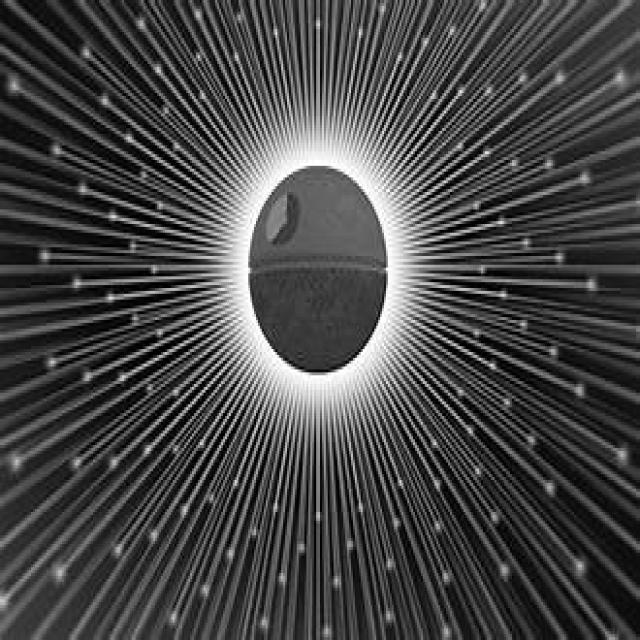deathStar: (251, 166, 389, 378)
